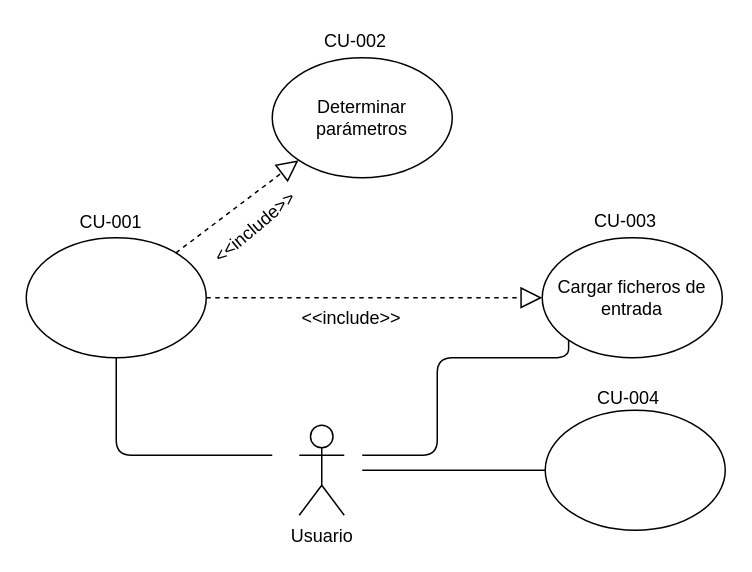
The diagram is 752 pixels wide and 572 high, and some of its shapes have lost their labels. Here are the shapes that lost their labels. From the top down, the centre of each, then its label:
At point 115,297: "Iniciar programa".
At point 634,469: "Acceder al fichero de salida".
